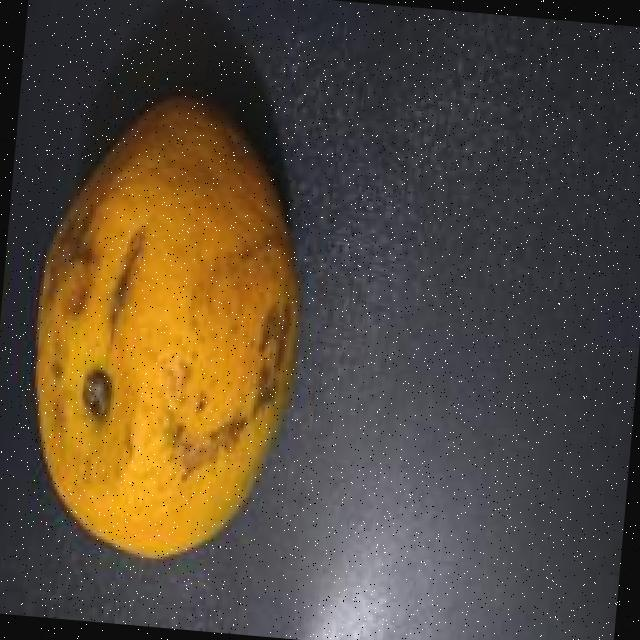overripe: (6, 79, 319, 576)
